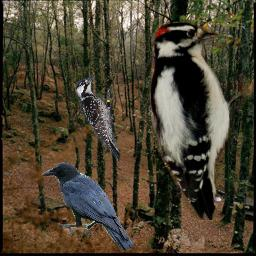Crow: (41, 162, 134, 253)
Woodpecker: (151, 22, 254, 220), (75, 74, 121, 162)
